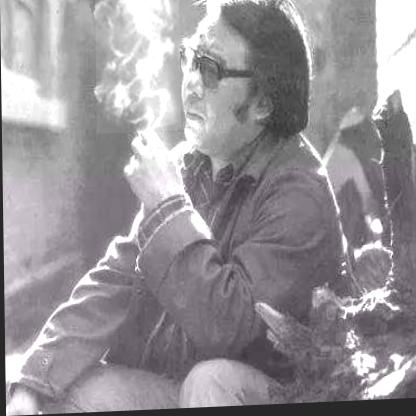smoke: (95, 0, 181, 135)
